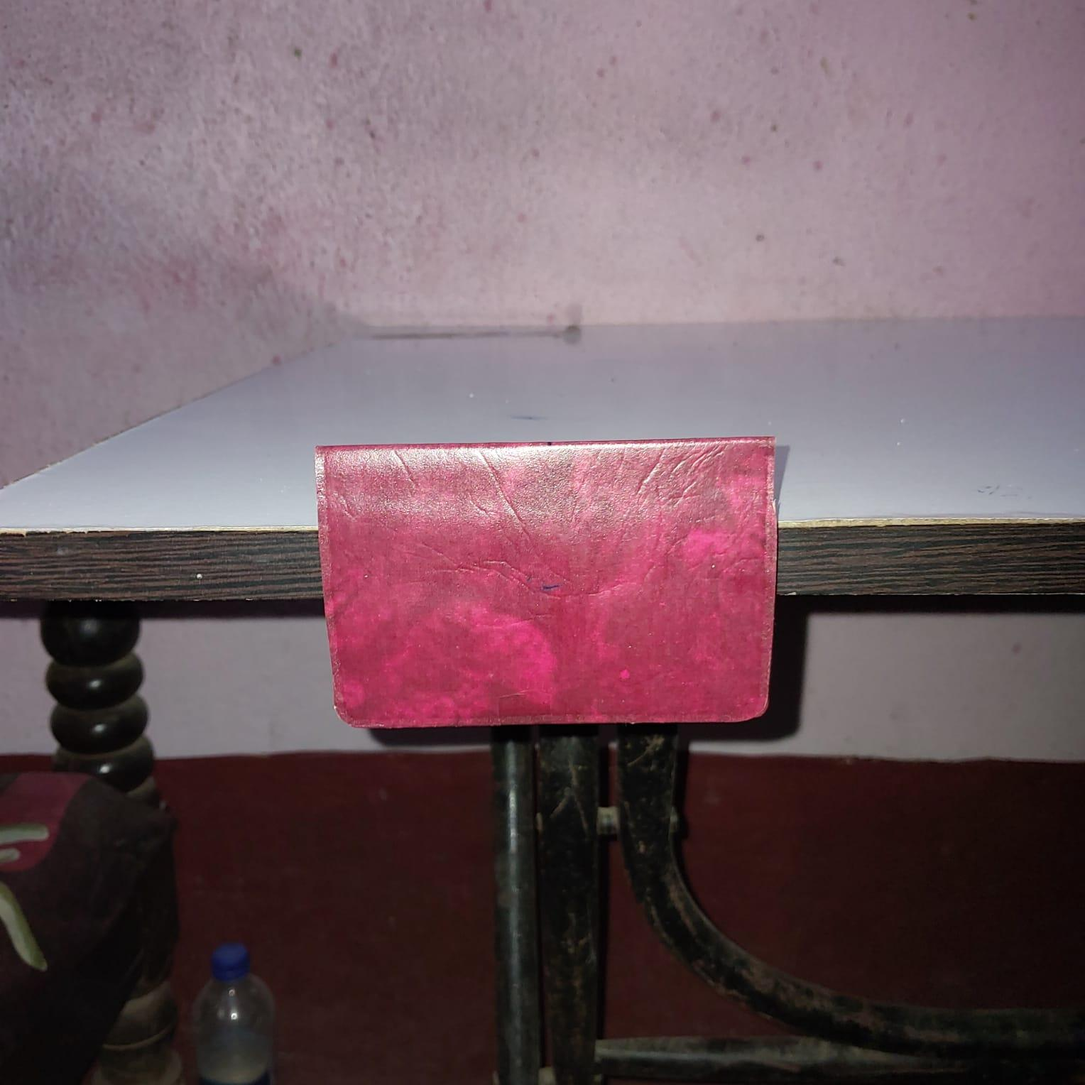wallet: (313, 439, 779, 729)
